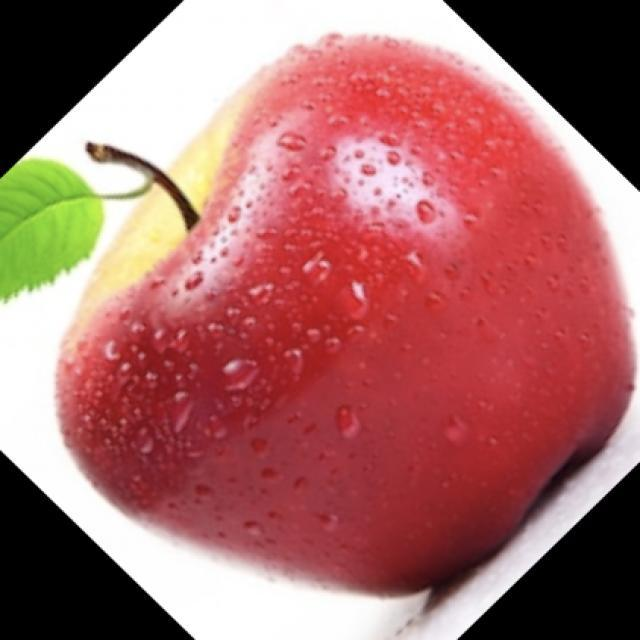Fresh Apple: (56, 30, 640, 591)
